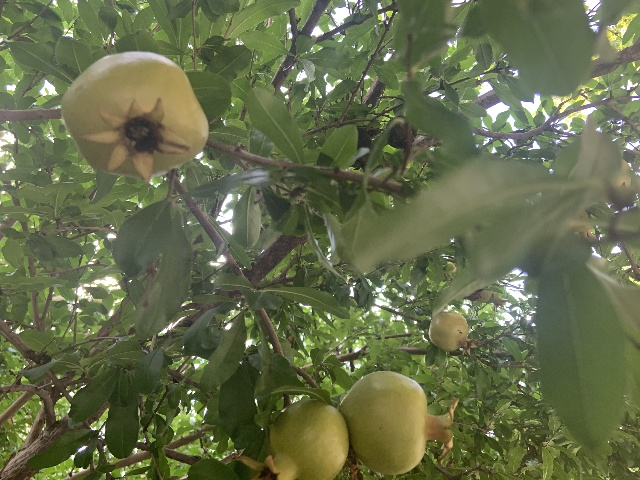mid-growth: (61, 51, 208, 185), (340, 370, 458, 475), (232, 398, 348, 480), (428, 311, 479, 356), (476, 290, 509, 311)
